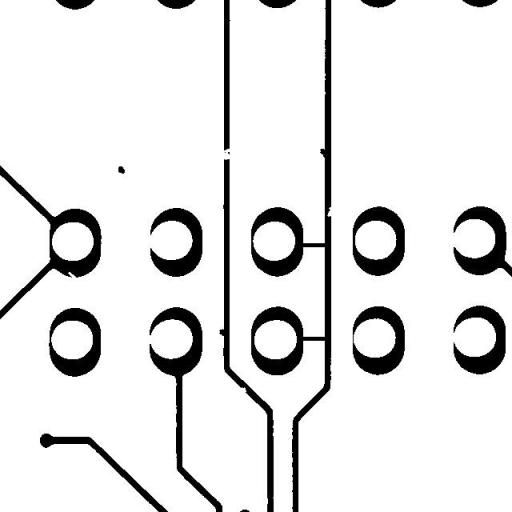copper: (110, 158, 132, 181)
mousebite: (319, 199, 341, 224), (60, 264, 83, 286), (232, 379, 254, 401)
open: (206, 140, 243, 167)
short: (294, 329, 335, 348), (291, 236, 333, 254)
spur: (312, 141, 334, 165), (211, 321, 232, 343)
